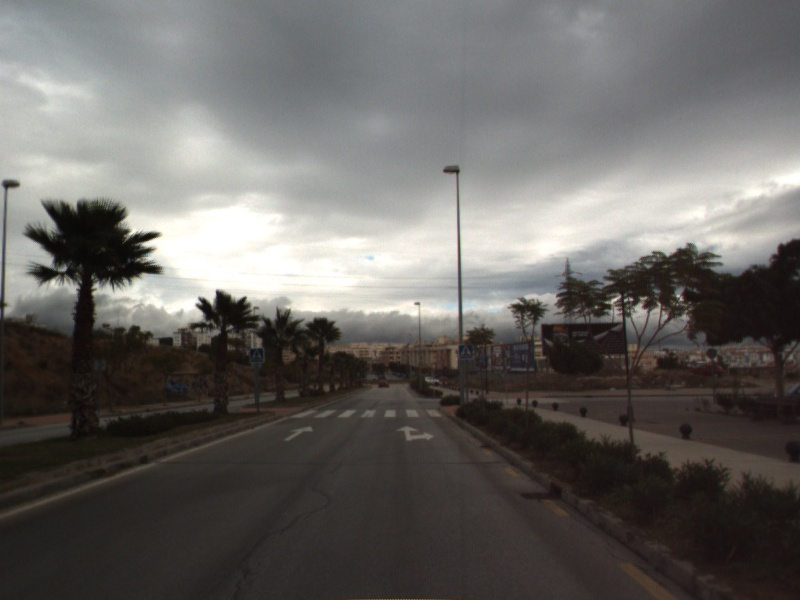STRAIGHT: (282, 424, 315, 443)
STRAIGHT_RIGHT: (394, 424, 436, 443)
